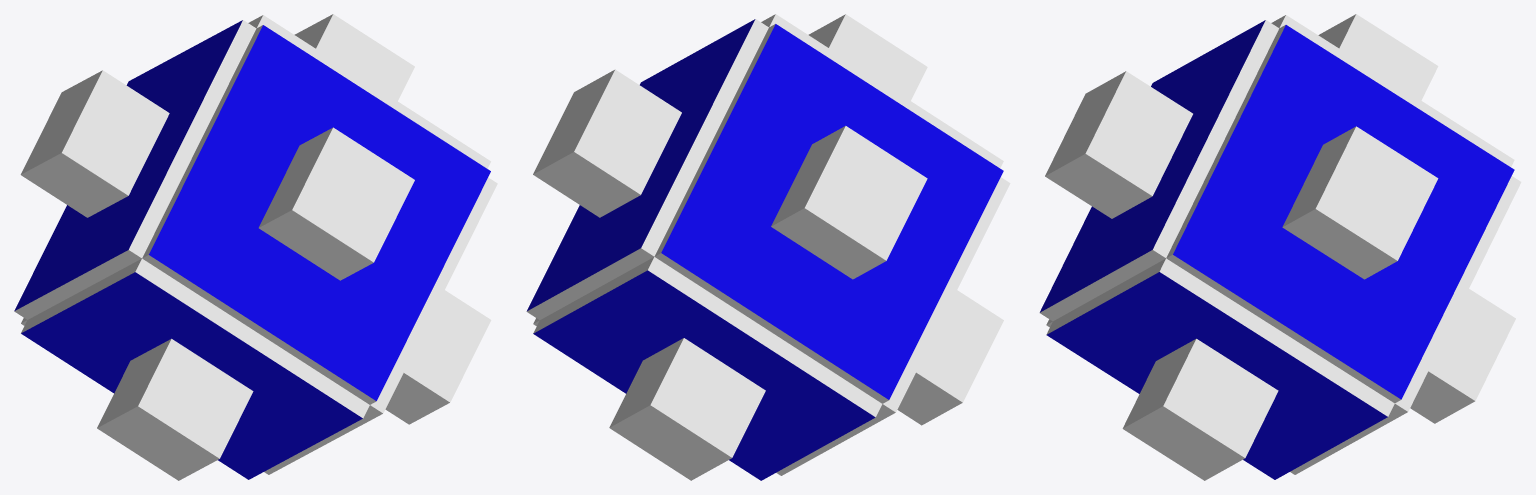
3 renders of one model, left to right at view 1: azimuth 30°, elevation 25°; view 2: azimuth 150°, elevation 25°; view 3: azimuth 270°, elevation 25°, orthographic.
Visible parts, largest first — view 1: Куб; view 2: Куб; view 3: Куб.
Part boxes in pixels (x1,y1,x2,y2): Куб: (14, 14, 497, 480); Куб: (526, 14, 1010, 480); Куб: (1039, 14, 1521, 480).
Bounding box in the file's own units: 299 × 360 × 345.
